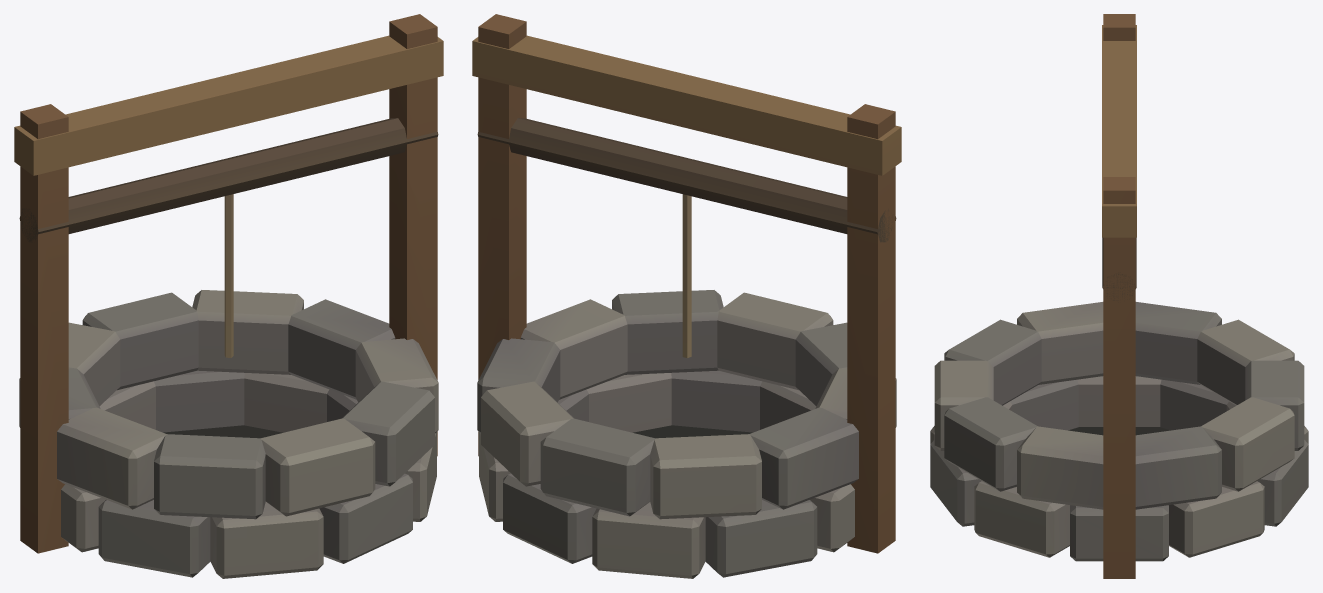
The model's file is AV_Well.glb.
3 views of the same model, side by side, from view 1: azimuth 30°, elevation 25°; view 2: azimuth 150°, elevation 25°; view 3: azimuth 270°, elevation 25° (orthographic). The views are drawn at different scales.
Visible parts, largest first — view 1: AV_Well__Body; view 2: AV_Well__Body; view 3: AV_Well__Body.
Part boxes in pixels (left/top/right/bottom): AV_Well__Body: left=14, top=14, right=443, bottom=578; AV_Well__Body: left=472, top=14, right=901, bottom=578; AV_Well__Body: left=930, top=14, right=1308, bottom=578.
Size of the model in its own units: 8 by 8 by 7.07.
